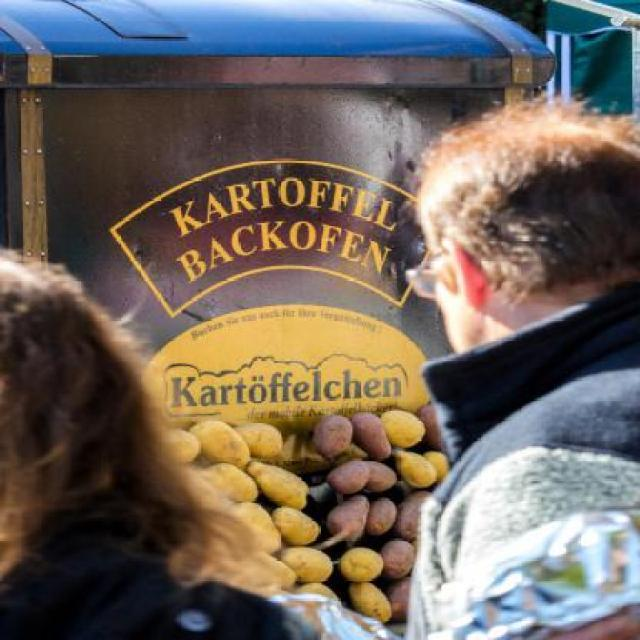Potato: (153, 414, 341, 603), (311, 403, 451, 625)
